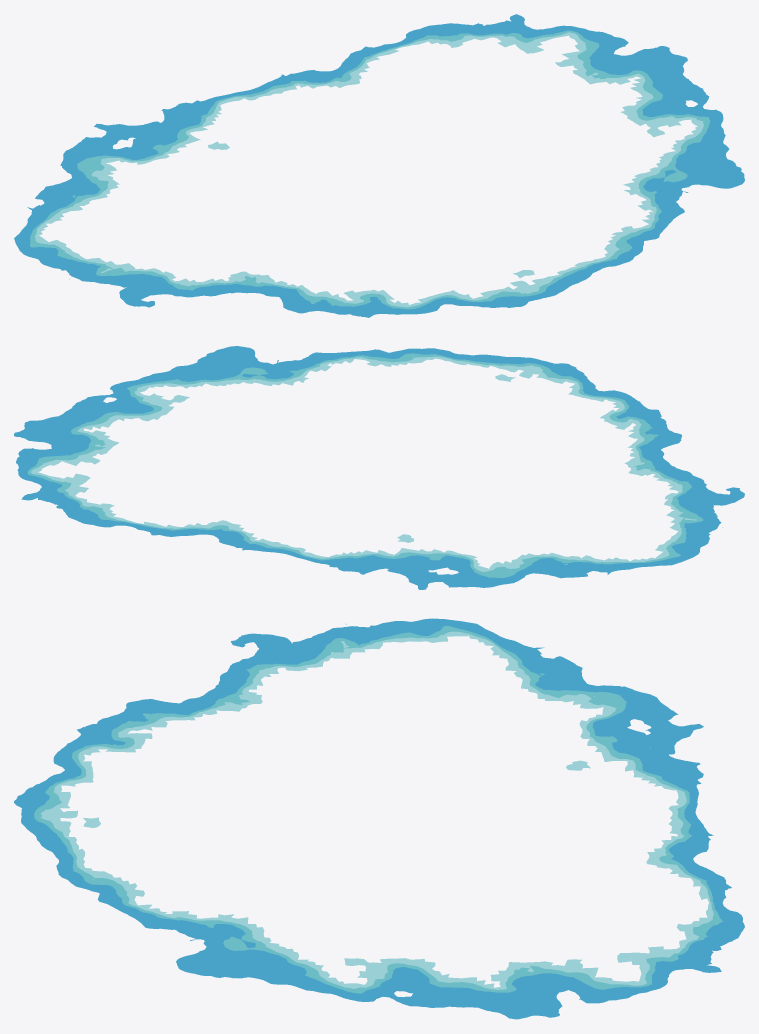
The model's file is Isl-rocky6-Water.fbx.
The picture shows the model from 3 angles, top to bottom: view 1: azimuth 30°, elevation 25°; view 2: azimuth 150°, elevation 25°; view 3: azimuth 270°, elevation 25°; orthographic projection. The views are drawn at different scales.
Parts seen in each view (by area): view 1: Isl-rocky6-Water; view 2: Isl-rocky6-Water; view 3: Isl-rocky6-Water.
Boxes of the visible parts, <box> form: Isl-rocky6-Water: <box>14,14,744,317</box>; Isl-rocky6-Water: <box>14,346,744,589</box>; Isl-rocky6-Water: <box>14,618,744,1019</box>.
Bounding box in the file's own units: 128 × 0 × 98.51.
